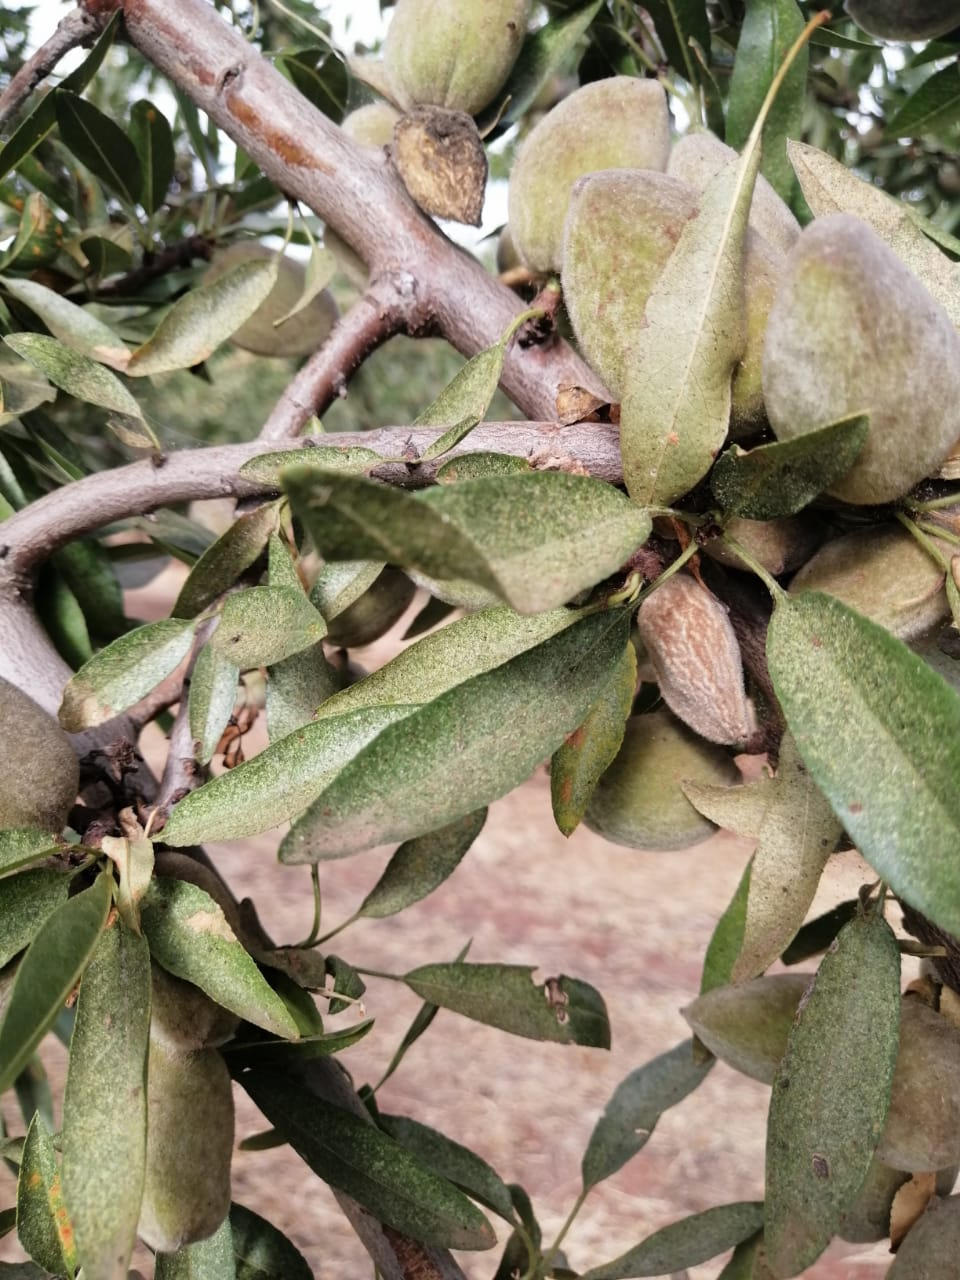acariens: (619, 11, 828, 518), (272, 598, 644, 871), (765, 591, 960, 935), (759, 914, 905, 1280), (157, 703, 422, 844), (61, 908, 153, 1280)
